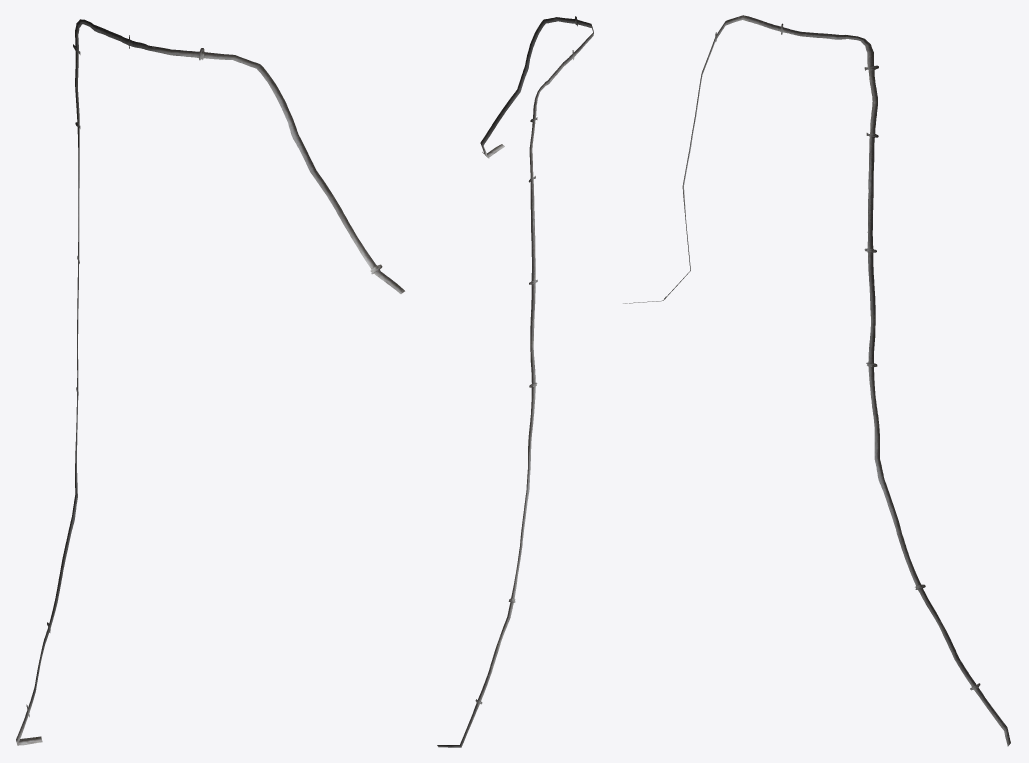
File: ThickWire_T06.FBX
3 views of the same model, side by side, from view 1: azimuth 30°, elevation 25°; view 2: azimuth 150°, elevation 25°; view 3: azimuth 270°, elevation 25° (orthographic). The views are drawn at different scales.
Parts seen in each view (by area): view 1: ThickWire_T06; view 2: ThickWire_T06; view 3: ThickWire_T06.
Boxes of the visible parts, x1=… form: ThickWire_T06: x1=16, y1=19, x2=404, y2=745; ThickWire_T06: x1=437, y1=16, x2=593, y2=747; ThickWire_T06: x1=623, y1=15, x2=1010, y2=746.
Bounding box in the file's own units: 47.41 × 197 × 97.78.
